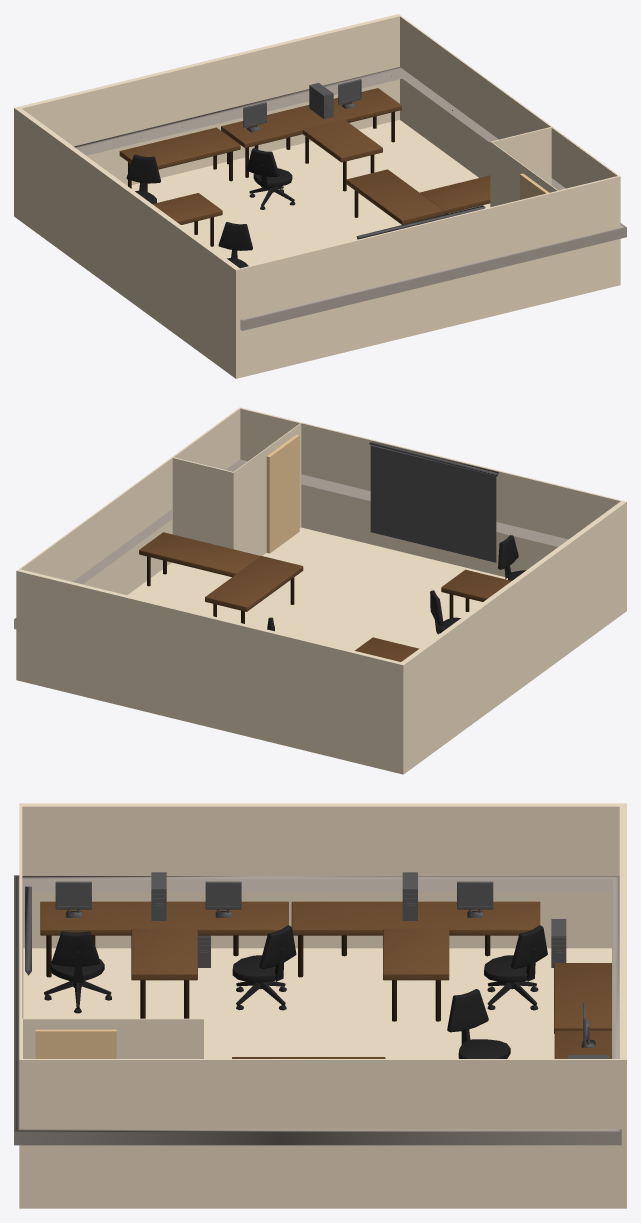
Rendered from roomba_room_modified.obj.
The picture shows the model from 3 angles, top to bottom: view 1: azimuth 30°, elevation 25°; view 2: azimuth 150°, elevation 25°; view 3: azimuth 270°, elevation 25°; orthographic projection. The views are drawn at different scales.
Parts seen in each view (by area): view 1: walls, wall_wiring1, all_tabletops ChamferBox04, all_tabletops ChamferBox14, all_tabletops ChamferBox15, all_tabletops ChamferBox21, all_tabletops ChamferBox20, all_chairs ChamferBox18, all_chairs ChamferBox09, all_chairs ChamferBox07, Box39, door_top (+2 smaller); view 2: walls, door, Box02, all_tabletops ChamferBox21, all_tabletops ChamferBox14, wall_wiring1, ChamferBox02 all_tabletops, all_tabletops ChamferBox20, door_top, all_chairs ChamferBox08; view 3: walls, wall_wiring1, all_tabletops ChamferBox20, ChamferBox02 all_tabletops, all_tabletops ChamferBox15, Box02, all_chairs ChamferBox08, all_tabletops ChamferBox04, all_chairs ChamferBox07, ChamferBox03, ChamferBox01, ChamferBox17 (+10 smaller).
Part boxes in pixels (x1=…): walls: x1=14, y1=14, x2=620, y2=378; wall_wiring1: x1=74, y1=67, x2=626, y2=330; all_tabletops ChamferBox04: x1=221, y1=88, x2=401, y2=162; all_tabletops ChamferBox14: x1=346, y1=169, x2=443, y2=224; all_tabletops ChamferBox15: x1=119, y1=127, x2=240, y2=169; all_tabletops ChamferBox21: x1=420, y1=175, x2=490, y2=214; all_tabletops ChamferBox20: x1=152, y1=193, x2=222, y2=224; all_chairs ChamferBox18: x1=126, y1=154, x2=160, y2=183; all_chairs ChamferBox09: x1=218, y1=222, x2=252, y2=250; all_chairs ChamferBox07: x1=246, y1=148, x2=279, y2=176; Box39: x1=309, y1=83, x2=333, y2=118; door_top: x1=356, y1=205, x2=485, y2=239; walls: x1=16, y1=407, x2=626, y2=774; door: x1=370, y1=446, x2=496, y2=562; Box02: x1=266, y1=434, x2=299, y2=553; all_tabletops ChamferBox21: x1=139, y1=532, x2=260, y2=576; all_tabletops ChamferBox14: x1=205, y1=556, x2=303, y2=611; wall_wiring1: x1=14, y1=459, x2=568, y2=629; ChamferBox02 all_tabletops: x1=441, y1=569, x2=511, y2=601; all_tabletops ChamferBox20: x1=355, y1=637, x2=418, y2=661; door_top: x1=369, y1=441, x2=498, y2=476; all_chairs ChamferBox08: x1=498, y1=535, x2=518, y2=569; walls: x1=19, y1=803, x2=626, y2=1208; wall_wiring1: x1=14, y1=875, x2=621, y2=1145; all_tabletops ChamferBox20: x1=291, y1=901, x2=540, y2=980; ChamferBox02 all_tabletops: x1=40, y1=901, x2=288, y2=980; all_tabletops ChamferBox15: x1=554, y1=963, x2=611, y2=1033; Box02: x1=35, y1=1029, x2=116, y2=1058; all_chairs ChamferBox08: x1=52, y1=931, x2=99, y2=966; all_tabletops ChamferBox04: x1=554, y1=1031, x2=611, y2=1058; all_chairs ChamferBox07: x1=447, y1=989, x2=488, y2=1032; ChamferBox03: x1=55, y1=881, x2=91, y2=909; ChamferBox01: x1=205, y1=881, x2=241, y2=909; ChamferBox17: x1=457, y1=881, x2=493, y2=909.
Size of what is drawn, in the model's own units: 259 by 69.26 by 258.
